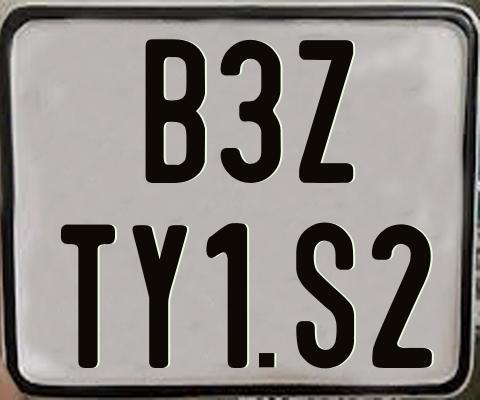1: (203, 223, 244, 371)
2: (369, 223, 434, 367)
3: (219, 38, 286, 181)
B: (142, 38, 202, 188)
S: (294, 220, 353, 368)
T: (60, 224, 120, 371)
Y: (132, 222, 193, 367)
Z: (299, 39, 359, 183)
